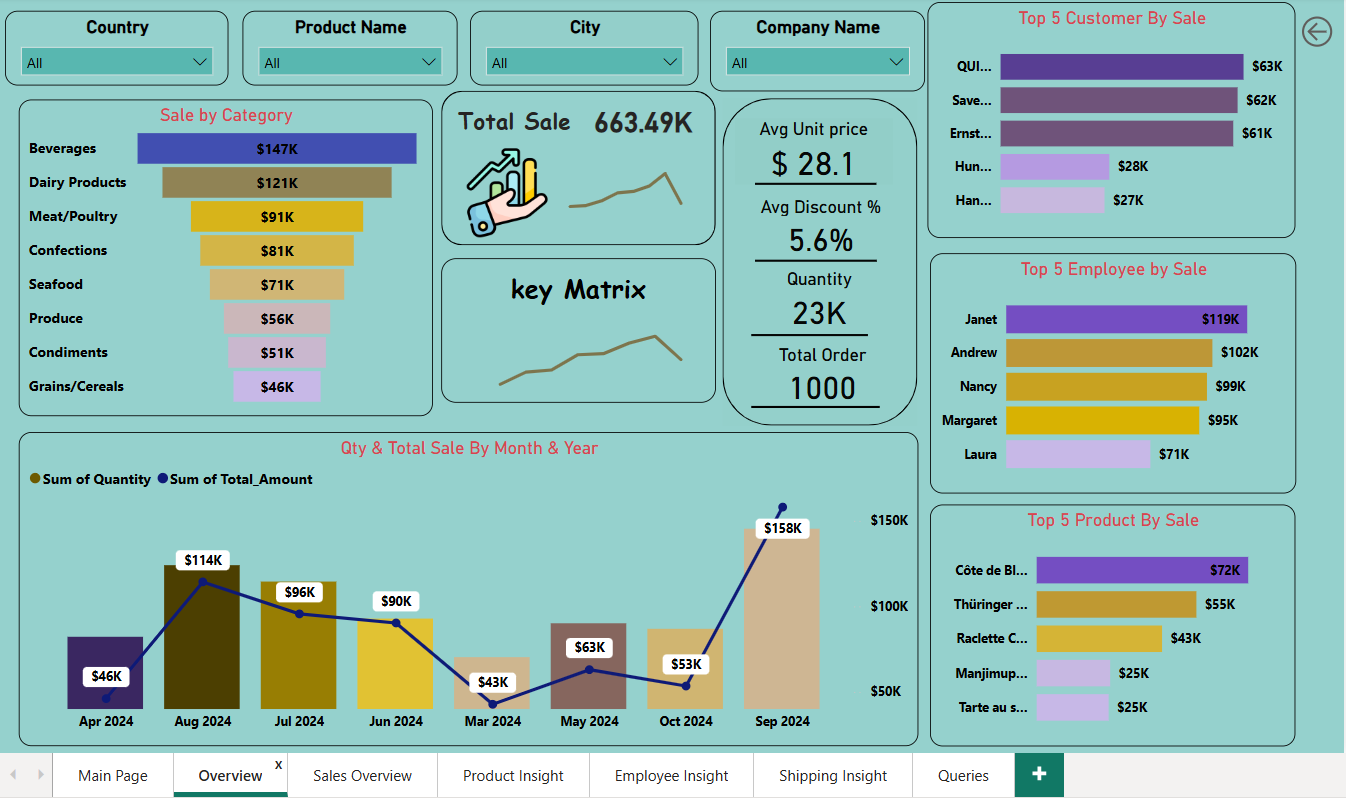

What the dashboard file says about the page in this screenshot:
{"tool":"powerbi","page":{"name":"Overview","canvas":[1280,720],"ordinal":1},"visuals":[{"type":"barChart","title":"Top 5 Customer By Sale","fields":{"Y":["power_bi orders.Total_Amount"],"Category":["power_bi customers.CompanyName"]},"box":[883.8,4.8,350.7,225],"z":0},{"type":"funnel","title":"Sale by Category","fields":{"Y":["power_bi orders.Total_Amount"],"Category":["power_bi categories.CategoryName"]},"box":[18.2,97.7,394.2,301.5],"z":1000},{"type":"clusteredBarChart","title":"Top 5 Product By Sale","fields":{"Y":["power_bi orders.Total_Amount"],"Category":["power_bi products.ProductName"]},"box":[886.2,483.7,347.9,230.3],"z":2000},{"type":"lineStackedColumnComboChart","title":"Qty & Total Sale By Month & Year","fields":{"Category":["power_bi calendar.Month Name","power_bi calendar.Year"],"Y":["power_bi orders.Quantity"],"Y2":["power_bi orders.Total_Amount"]},"box":[17.9,414.8,857.2,299.3],"z":3000},{"type":"clusteredBarChart","title":"Top 5 Employee by Sale","fields":{"Y":["power_bi orders.Total_Amount"],"Category":["power_bi employees.FirstName"]},"box":[885.7,244,348.8,228.6],"z":4000},{"type":"slicer","title":"Country","fields":{"Values":["power_bi customers.Country"]},"box":[4.9,13,213.1,71.6],"z":5000},{"type":"slicer","title":"Product Name","fields":{"Values":["power_bi products.ProductName"]},"box":[231,13,204.9,71.6],"z":6000},{"type":"slicer","title":"City","fields":{"Values":["power_bi customers.City"]},"box":[447.3,13,218,71.6],"z":7000},{"type":"slicer","title":"Company Name","fields":{"Values":["power_bi customers.CompanyName"]},"box":[676.6,13,204.9,76.4],"z":8000},{"type":"textbox","box":[420.7,248.5,261.7,137.5],"z":9000},{"type":"lineChart","fields":{"Y":["power_bi orders.Total Orders"],"Category":["power_bi calendar.Month Number"]},"box":[437.3,304.8,226.9,72.9],"z":10000},{"type":"card","title":"Avg Discount %","fields":{"Values":["power_bi orders.Avg of Discount"]},"box":[710.7,189.3,141.7,60.7],"z":11000},{"type":"card","title":"Avg Unit price","fields":{"Values":["power_bi orders.Avg of unit price"]},"box":[700,115.5,150,63.1],"z":12000},{"type":"card","title":"Quantity","fields":{"Values":["power_bi orders.Total Quantity"]},"box":[707.1,258.3,146.4,61.9],"z":13000},{"type":"card","title":"Total Order","fields":{"Values":["power_bi orders.Total Orders"]},"box":[710.7,331,145.2,59.5],"z":14000},{"type":"shape","box":[719.1,159.5,116,36.9],"z":15000},{"type":"shape","box":[716,303.6,111.4,36.9],"z":16000},{"type":"shape","box":[719.1,234.5,116.2,33.3],"z":17000},{"type":"shape","box":[688.1,96.4,185.7,311.9],"z":18000},{"type":"shape","box":[715.5,371.4,122.6,38.1],"z":19000},{"type":"card","fields":{"Values":["power_bi orders.total sales"]},"box":[548.3,94.4,127.5,48],"z":20000},{"type":"textbox","box":[399.2,97.7,182.2,53],"z":21000},{"type":"image","box":[435.7,137.5,94.4,99.4],"z":22000},{"type":"actionButton","box":[1234.1,13.3,46.4,39.8],"z":23000},{"type":"lineChart","fields":{"Y":["power_bi orders.Total_Amount"],"Category":["power_bi calendar.Month Number"]},"box":[513.5,142.5,150.7,74.5],"z":24000},{"type":"actionButton","box":[420.7,89.4,261.7,147.4],"z":25000}]}

Visuals, with their boxes on the page's 1280x720 design canvas (x1, y1, x2, y2). These are canvas units, not pixel positions in the 1346x798 screenshot, which may show the page scaled, cropped or inside an application window:
"Top 5 Customer By Sale" barChart: {"x1": 884, "y1": 5, "x2": 1234, "y2": 230}
"Sale by Category" funnel: {"x1": 18, "y1": 98, "x2": 412, "y2": 399}
"Top 5 Product By Sale" clusteredBarChart: {"x1": 886, "y1": 484, "x2": 1234, "y2": 714}
"Qty & Total Sale By Month & Year" lineStackedColumnComboChart: {"x1": 18, "y1": 415, "x2": 875, "y2": 714}
"Top 5 Employee by Sale" clusteredBarChart: {"x1": 886, "y1": 244, "x2": 1234, "y2": 473}
"Country" slicer: {"x1": 5, "y1": 13, "x2": 218, "y2": 85}
"Product Name" slicer: {"x1": 231, "y1": 13, "x2": 436, "y2": 85}
"City" slicer: {"x1": 447, "y1": 13, "x2": 665, "y2": 85}
"Company Name" slicer: {"x1": 677, "y1": 13, "x2": 882, "y2": 89}
textbox: {"x1": 421, "y1": 248, "x2": 682, "y2": 386}
lineChart - power_bi orders.Total Orders x power_bi calendar.Month Number: {"x1": 437, "y1": 305, "x2": 664, "y2": 378}
"Avg Discount %" card: {"x1": 711, "y1": 189, "x2": 852, "y2": 250}
"Avg Unit price" card: {"x1": 700, "y1": 116, "x2": 850, "y2": 179}
"Quantity" card: {"x1": 707, "y1": 258, "x2": 854, "y2": 320}
"Total Order" card: {"x1": 711, "y1": 331, "x2": 856, "y2": 390}
shape: {"x1": 719, "y1": 160, "x2": 835, "y2": 196}
shape: {"x1": 716, "y1": 304, "x2": 827, "y2": 340}
shape: {"x1": 719, "y1": 234, "x2": 835, "y2": 268}
shape: {"x1": 688, "y1": 96, "x2": 874, "y2": 408}
shape: {"x1": 716, "y1": 371, "x2": 838, "y2": 410}
card - power_bi orders.total sales: {"x1": 548, "y1": 94, "x2": 676, "y2": 142}
textbox: {"x1": 399, "y1": 98, "x2": 581, "y2": 151}
image: {"x1": 436, "y1": 138, "x2": 530, "y2": 237}
actionButton: {"x1": 1234, "y1": 13, "x2": 1280, "y2": 53}
lineChart - power_bi orders.Total_Amount x power_bi calendar.Month Number: {"x1": 514, "y1": 142, "x2": 664, "y2": 217}
actionButton: {"x1": 421, "y1": 89, "x2": 682, "y2": 237}
